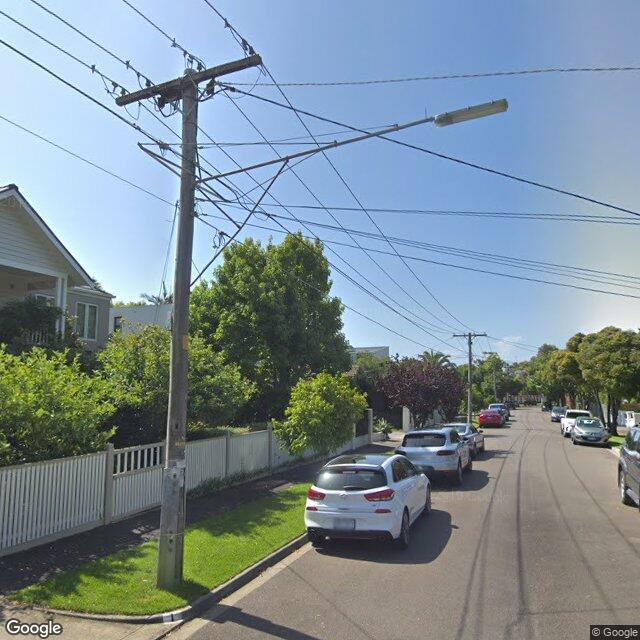crossarm: (115, 53, 263, 107), (453, 333, 488, 338)
streetlight: (192, 98, 510, 188)
timber-pole: (158, 68, 197, 589), (468, 334, 472, 424)
